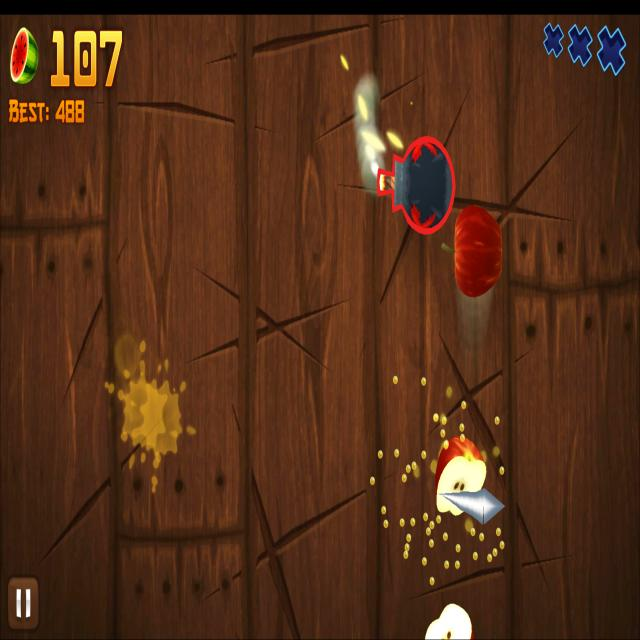bomb: (378, 135, 457, 236)
fruit: (454, 204, 503, 298)
